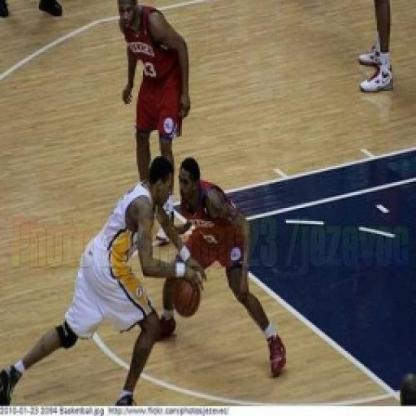basketball: (165, 265, 205, 325)
